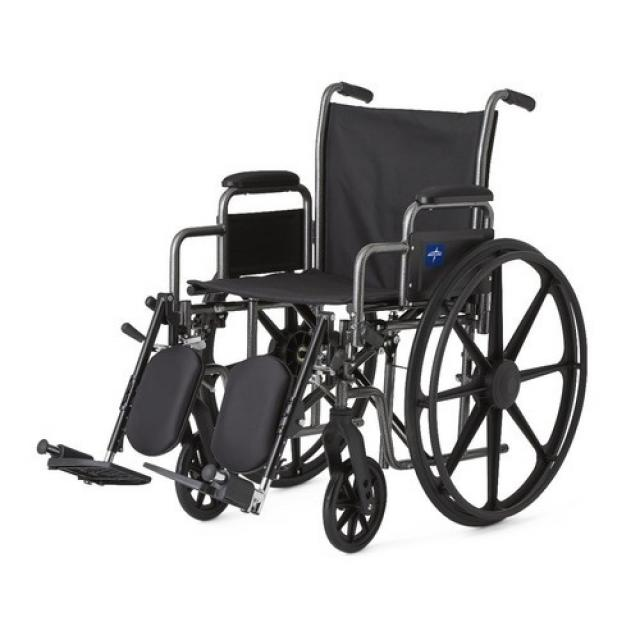wheelchair: (24, 72, 640, 570)
